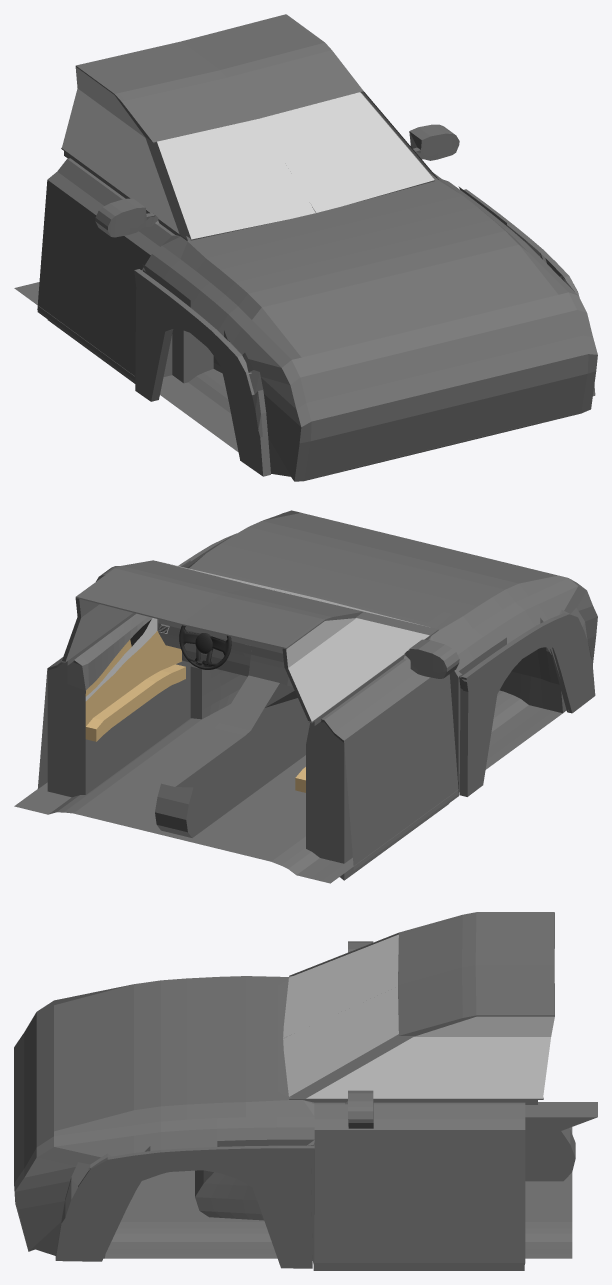
The model's file is audiA8_2016_16_3_1.fbx.
3 views of the same model, one above another, from view 1: azimuth 30°, elevation 25°; view 2: azimuth 150°, elevation 25°; view 3: azimuth 270°, elevation 25° (orthographic).
Parts seen in each view (by area): view 1: Cube; view 2: Cube, BezierCircle; view 3: Cube.
Boxes of the visible parts, bbox=[...] form: Cube: bbox=[14, 14, 597, 481]; Cube: bbox=[14, 510, 597, 883]; BezierCircle: bbox=[179, 625, 231, 669]; Cube: bbox=[14, 912, 597, 1270].
Size of the model in its own units: 931 by 590 by 1333.
